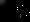person: (14, 9, 20, 21), (22, 11, 29, 21)
